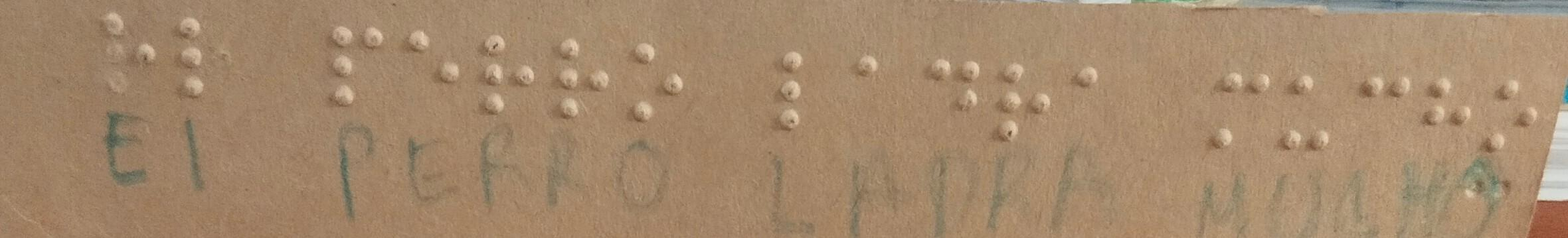a: (1060, 46, 1125, 104), (839, 44, 905, 97)
c: (1339, 60, 1417, 128)
d: (921, 38, 987, 126)
e: (401, 22, 465, 102), (100, 11, 168, 75)
h: (1419, 55, 1474, 144)
l: (766, 42, 812, 139), (179, 9, 217, 108)
m: (1200, 66, 1280, 159)
o: (1479, 55, 1550, 164), (624, 38, 697, 126)
p: (319, 11, 390, 115)
r: (992, 46, 1052, 155), (549, 27, 615, 124), (476, 24, 538, 119)
u: (1275, 64, 1337, 161)
